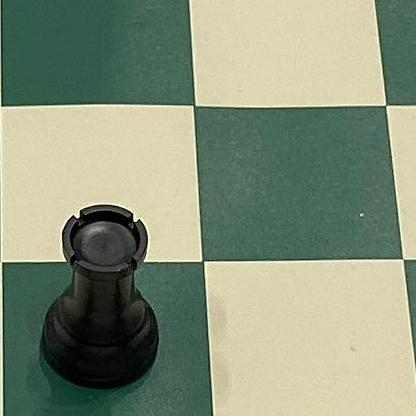black-rook: (34, 201, 166, 395)
